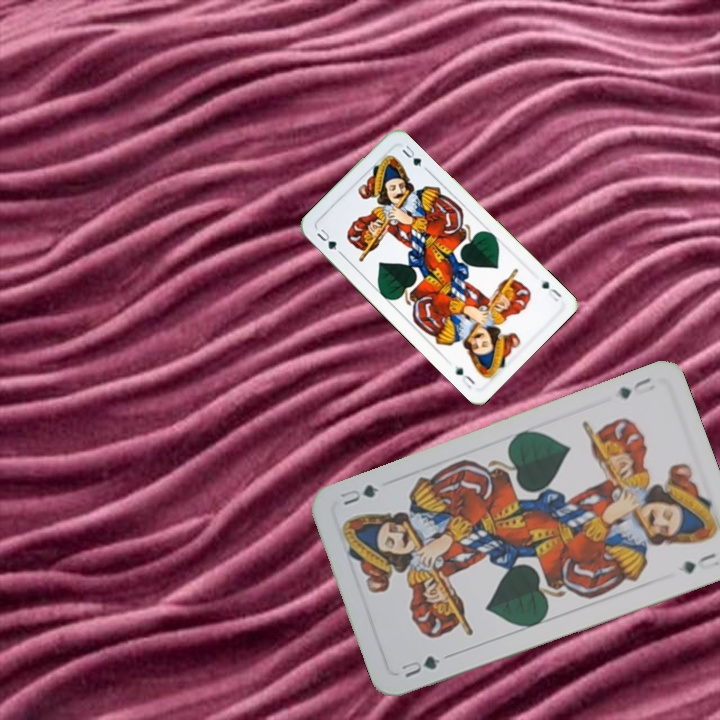GU: (397, 651, 443, 681), (614, 373, 654, 402), (312, 225, 344, 257), (536, 275, 565, 304)
